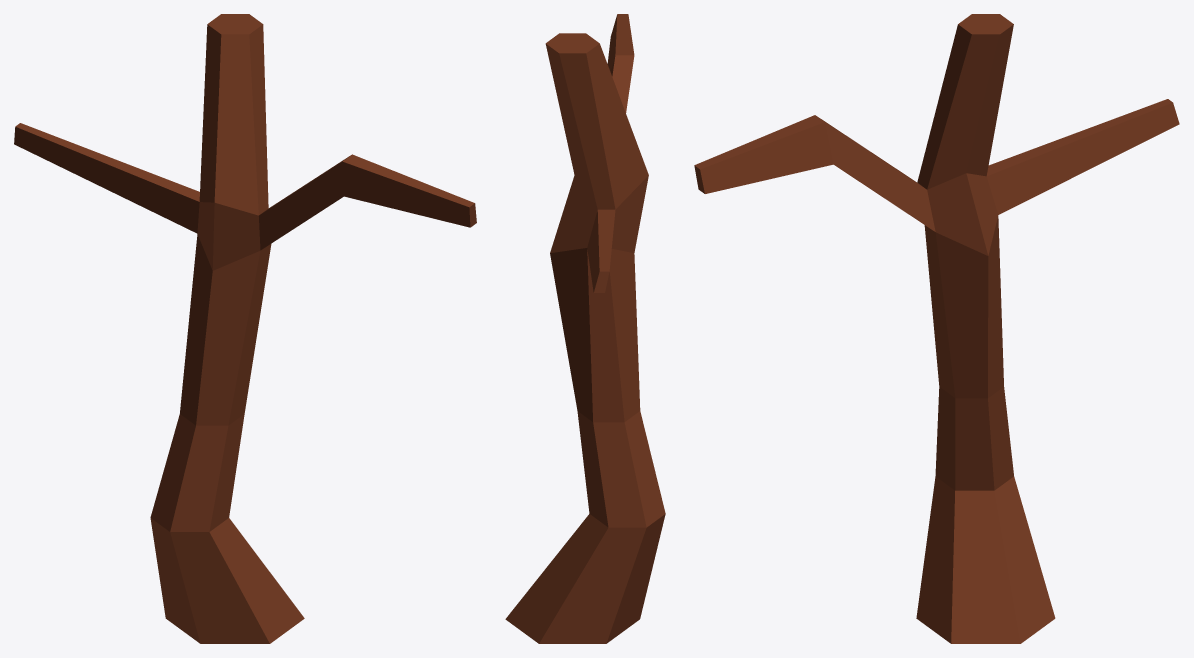
File: tree3.fbx
3 renders of one model, left to right at view 1: azimuth 30°, elevation 25°; view 2: azimuth 150°, elevation 25°; view 3: azimuth 270°, elevation 25°, orthographic. The views are drawn at different scales.
Parts seen in each view (by area): view 1: Cylinder; view 2: Cylinder; view 3: Cylinder.
Part boxes in pixels (x1,y1,x2,y2): Cylinder: [14, 14, 476, 643]; Cylinder: [505, 14, 665, 643]; Cylinder: [694, 14, 1179, 643].
Bounding box in the file's own units: 182 × 450 × 333.
